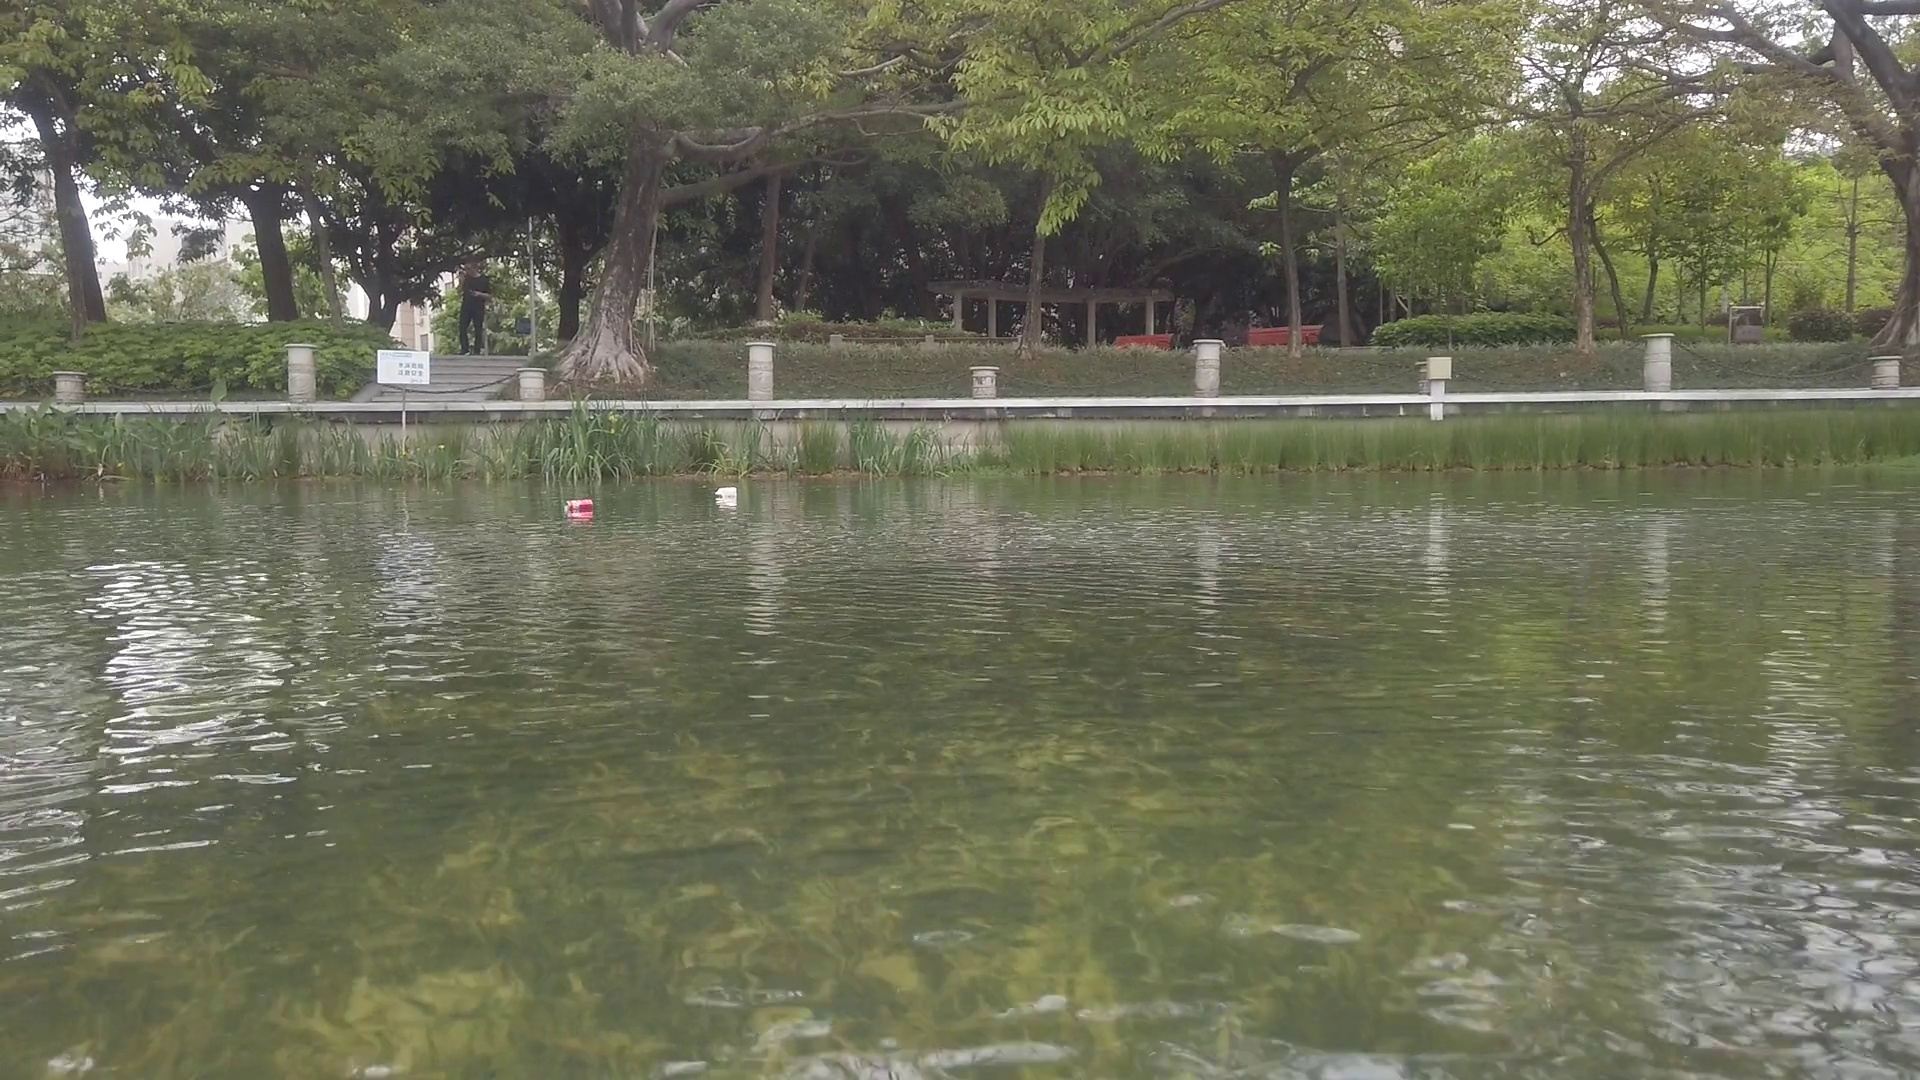bottle: (564, 495, 595, 513)
carton: (717, 487, 738, 497)
